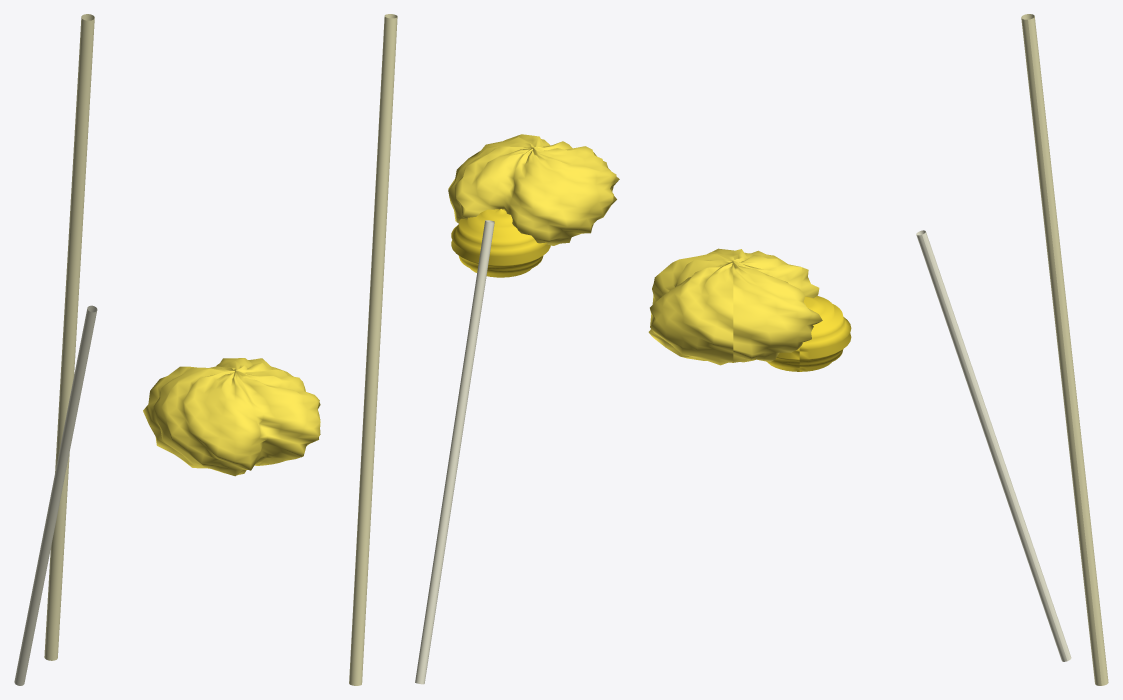
Rendered from nervous.glb.
3 views of the same model, side by side, from view 1: azimuth 30°, elevation 25°; view 2: azimuth 150°, elevation 25°; view 3: azimuth 270°, elevation 25° (orthographic). The views are drawn at different scales.
Parts seen in each view (by area): view 1: Mesh_Equine_Cerebrum, Mesh_Equine_MedullaSpinalis, Mesh_Equine_NervusVagus; view 2: Mesh_Equine_Cerebrum, Mesh_Equine_MedullaSpinalis, Mesh_Equine_NervusVagus, Mesh_Equine_Cerebellum; view 3: Mesh_Equine_Cerebrum, Mesh_Equine_MedullaSpinalis, Mesh_Equine_NervusVagus, Mesh_Equine_Cerebellum.
Boxes of the visible parts, left/top/right/bottom form: Mesh_Equine_Cerebrum: left=143, top=358, right=320, bottom=476; Mesh_Equine_MedullaSpinalis: left=44, top=14, right=94, bottom=660; Mesh_Equine_NervusVagus: left=14, top=305, right=97, bottom=685; Mesh_Equine_Cerebrum: left=448, top=134, right=619, bottom=245; Mesh_Equine_MedullaSpinalis: left=349, top=14, right=397, bottom=685; Mesh_Equine_NervusVagus: left=415, top=220, right=494, bottom=684; Mesh_Equine_Cerebellum: left=451, top=209, right=550, bottom=277; Mesh_Equine_Cerebrum: left=648, top=248, right=822, bottom=365; Mesh_Equine_MedullaSpinalis: left=1021, top=14, right=1108, bottom=685; Mesh_Equine_NervusVagus: left=916, top=230, right=1071, bottom=661; Mesh_Equine_Cerebellum: left=766, top=296, right=851, bottom=371.
Size of the model in its own units: 0.3616 by 1.56 by 0.9716.
